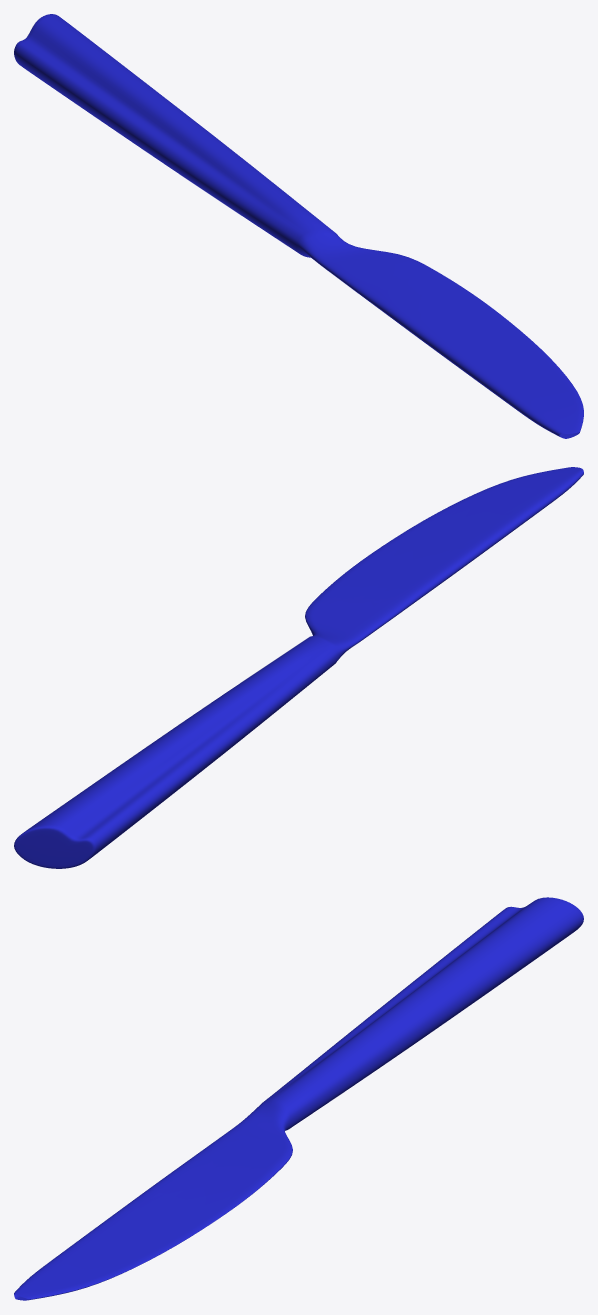
Rendered from knife.dae.
The picture shows the model from 3 angles, top to bottom: view 1: azimuth 30°, elevation 25°; view 2: azimuth 150°, elevation 25°; view 3: azimuth 330°, elevation 25°; orthographic projection. The views are drawn at different scales.
Parts seen in each view (by area): view 1: group_0_001; view 2: group_0_001; view 3: group_0_001.
Boxes of the visible parts, <box> form: group_0_001: <box>14,14,583,438</box>; group_0_001: <box>14,467,583,868</box>; group_0_001: <box>14,897,583,1300</box>.
Bounding box in the file's own units: 0.019 × 0.1796 × 0.0079.
